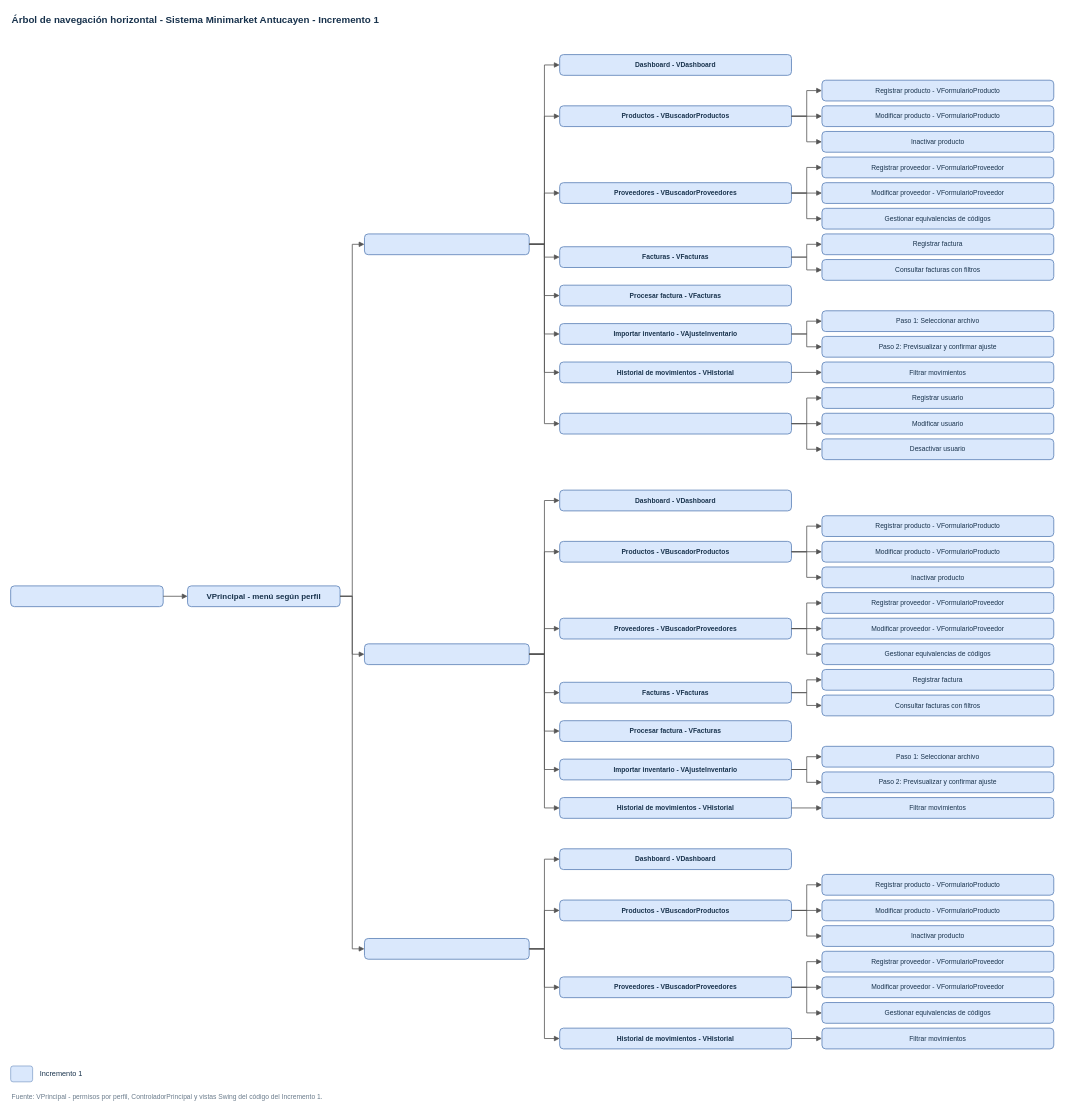
The diagram is 1065 pixels wide and 1114 high, and some of its shapes have lost their labels. Each missing label, with the box of its shape:
Administrador: (364, 233, 529, 255)
Bodeguero: (364, 643, 529, 665)
Cajero: (364, 938, 529, 959)
Usuarios y permisos - VGestionUsuarios: (559, 413, 792, 434)
VLogin - inicio de sesión: (10, 585, 163, 607)
